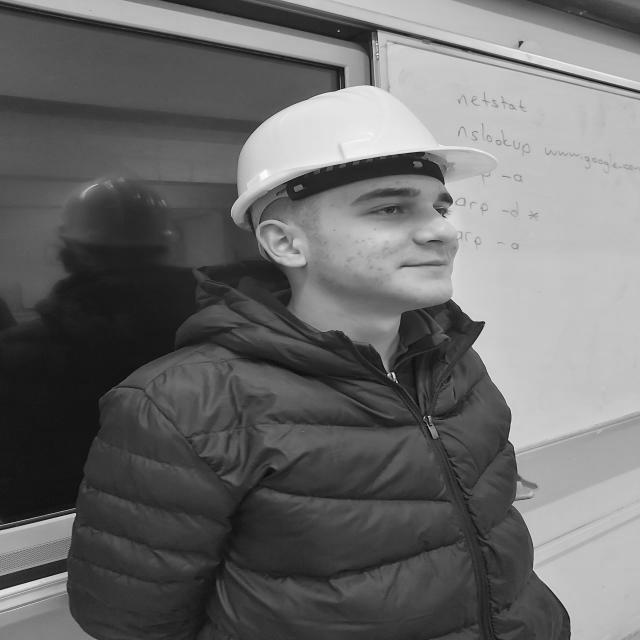construction helmet: (230, 87, 451, 236)
